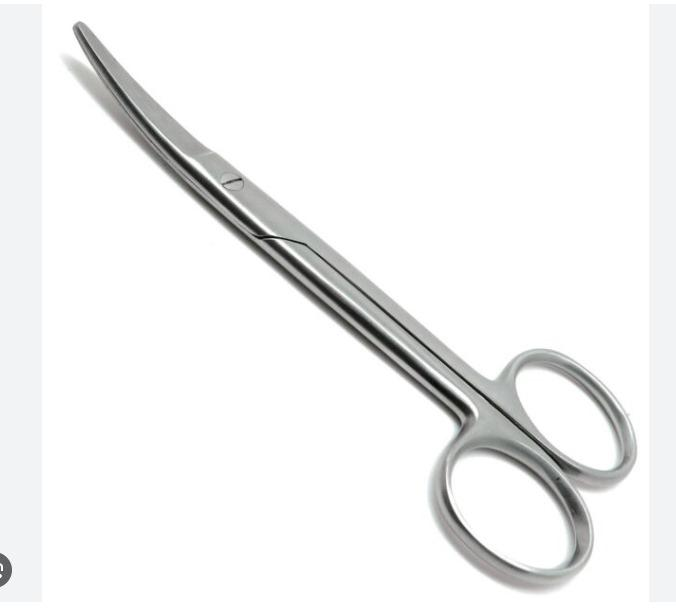Curved Mayo: (67, 20, 645, 590)
